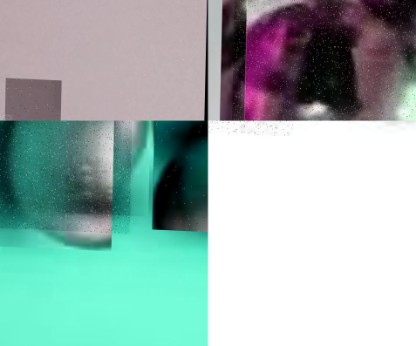ironball: (231, 0, 415, 120), (0, 120, 132, 231), (152, 120, 208, 233), (5, 75, 61, 120)
